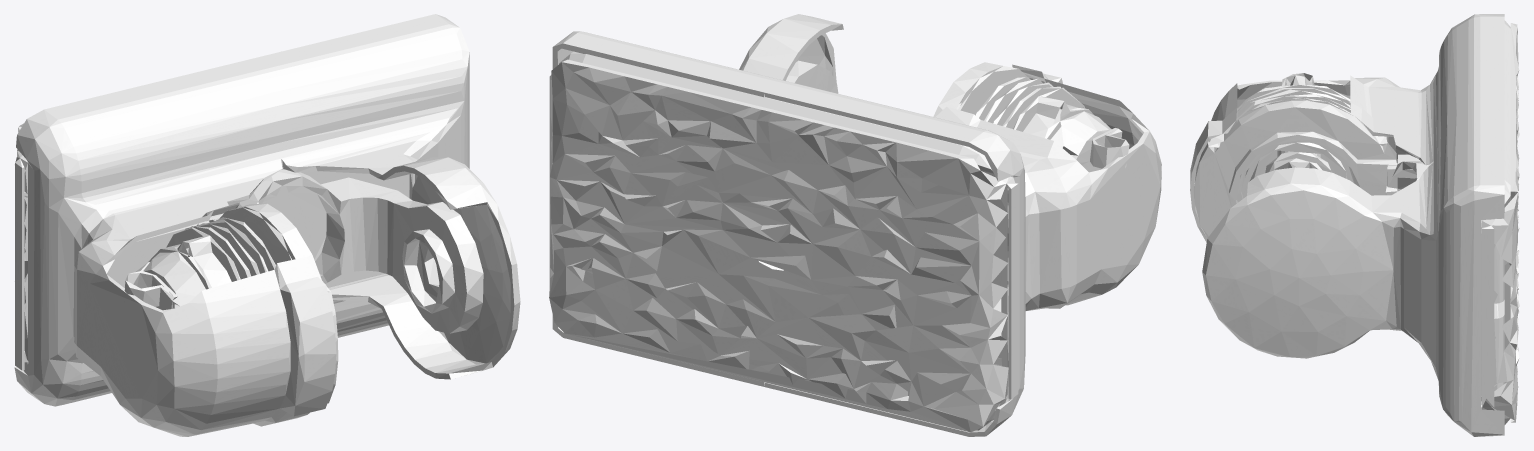
File: ankle_X_lo_res.dae
The picture shows the model from 3 angles, left to right: view 1: azimuth 30°, elevation 25°; view 2: azimuth 150°, elevation 25°; view 3: azimuth 270°, elevation 25°; orthographic projection. The views are drawn at different scales.
Visible parts, largest first — view 1: node; view 2: node; view 3: node.
Boxes of the visible parts, left/top/right/bottom form: node: left=14, top=14, right=520, bottom=436; node: left=549, top=14, right=1161, bottom=436; node: left=1190, top=14, right=1519, bottom=436.
Bounding box in the file's own units: 0.2208 × 0.1344 × 0.1604.
Materials: 1 (1 with a texture image).
